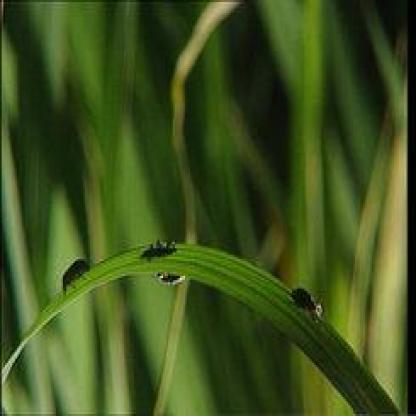rice-bug: (61, 255, 94, 296), (290, 284, 326, 320), (140, 238, 184, 262), (154, 274, 193, 288)
